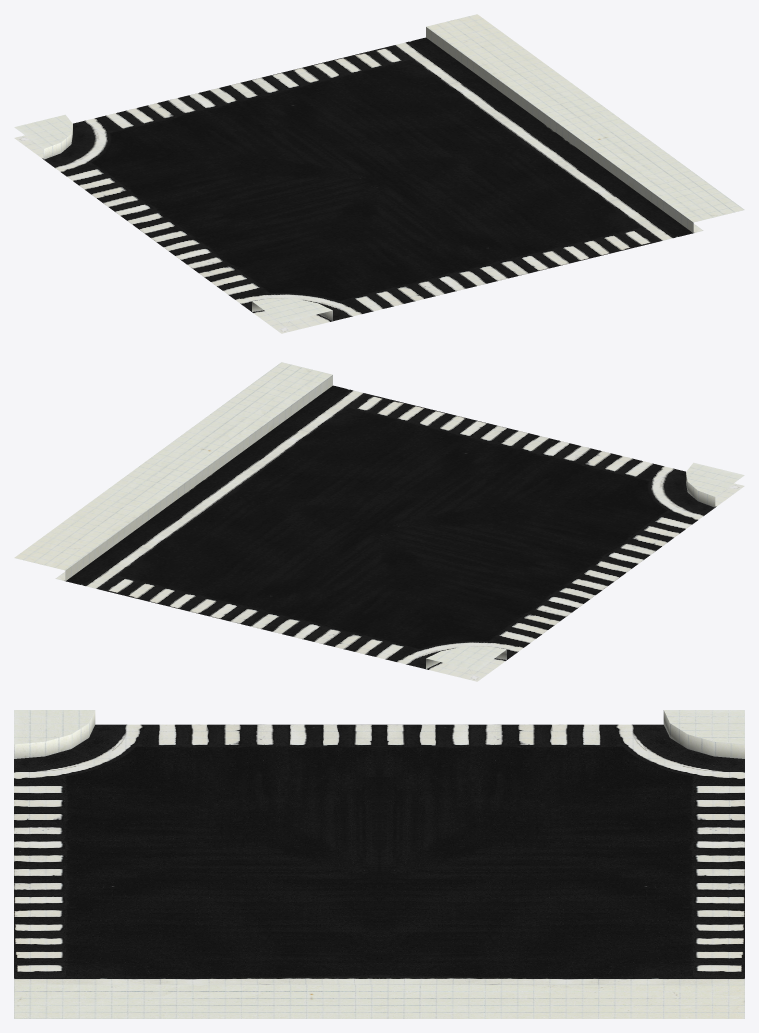
The model's file is tjunction.fbx.
3 renders of one model, top to bottom at view 1: azimuth 30°, elevation 25°; view 2: azimuth 150°, elevation 25°; view 3: azimuth 270°, elevation 25°, orthographic. The views are drawn at different scales.
Parts seen in each view (by area): view 1: Plane; view 2: Plane; view 3: Plane.
Part boxes in pixels (bbox=[...]): Plane: bbox=[14, 14, 744, 333]; Plane: bbox=[14, 362, 744, 681]; Plane: bbox=[14, 710, 744, 1018].
Bounding box in the file's own units: 4500 × 100 × 4500.
